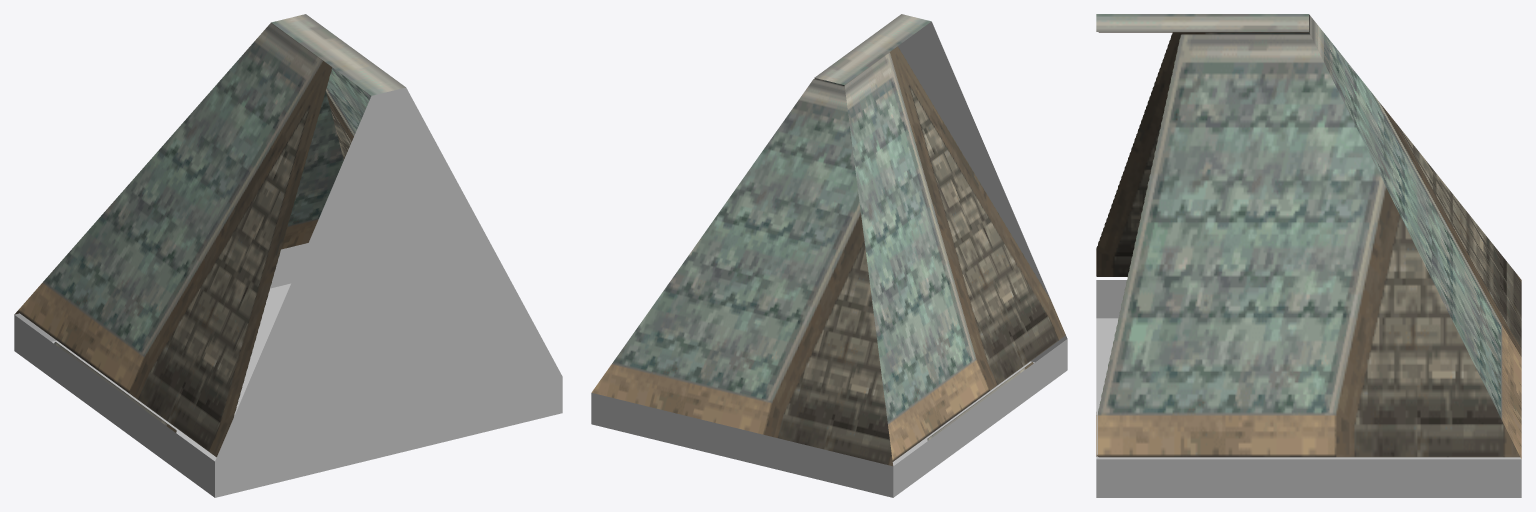
The model's file is roof_edge.fbx.
The picture shows the model from 3 angles, left to right: view 1: azimuth 30°, elevation 25°; view 2: azimuth 150°, elevation 25°; view 3: azimuth 270°, elevation 25°; orthographic projection. The views are drawn at different scales.
Parts seen in each view (by area): view 1: roof_edge; view 2: roof_edge; view 3: roof_edge.
Part boxes in pixels (left/top/right/bottom): roof_edge: left=14, top=14, right=562, bottom=497; roof_edge: left=591, top=14, right=1067, bottom=497; roof_edge: left=1096, top=14, right=1521, bottom=497.
Size of the model in its own units: 10 by 10 by 10.
